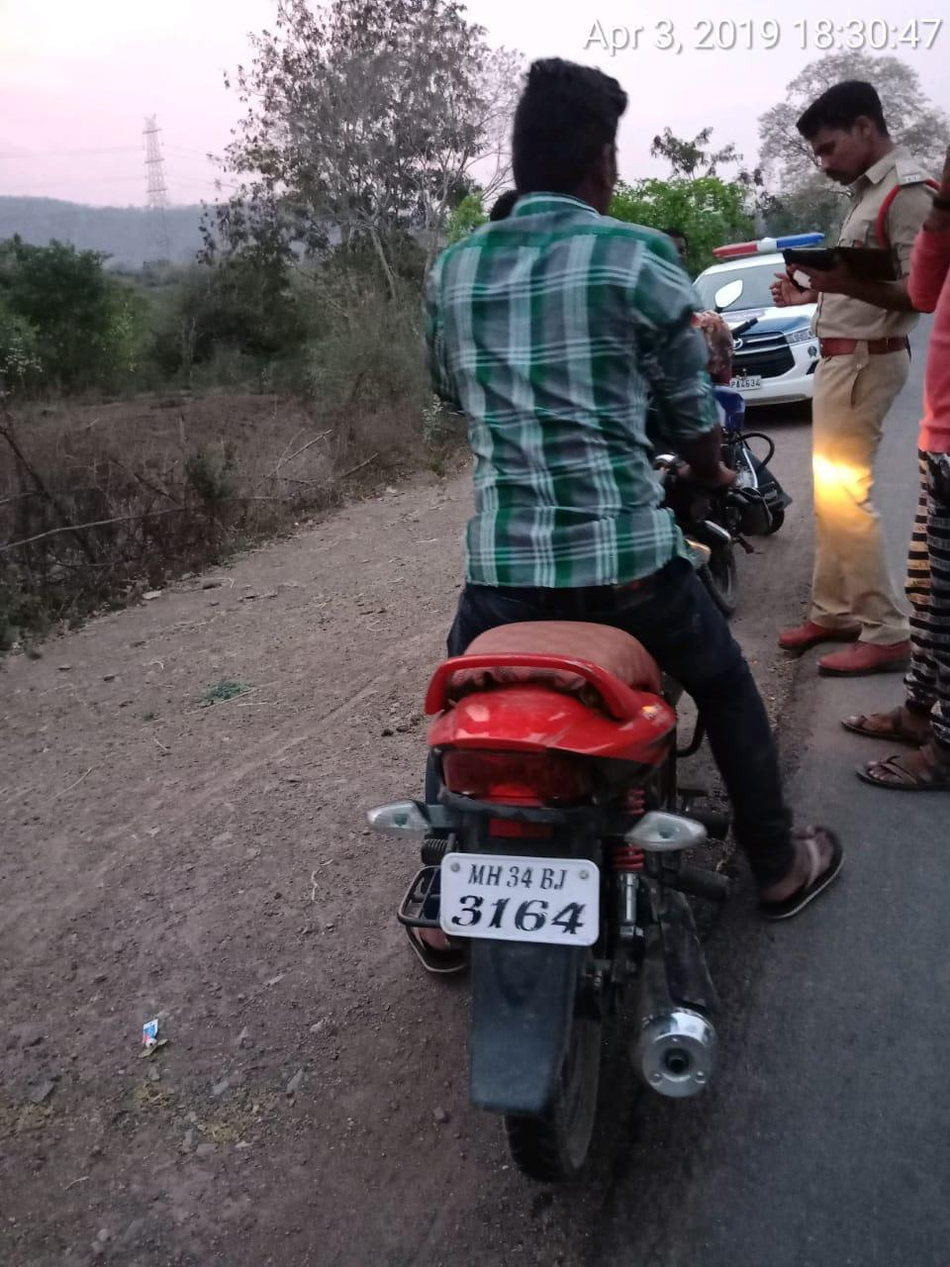plate: (421, 847, 618, 961)
